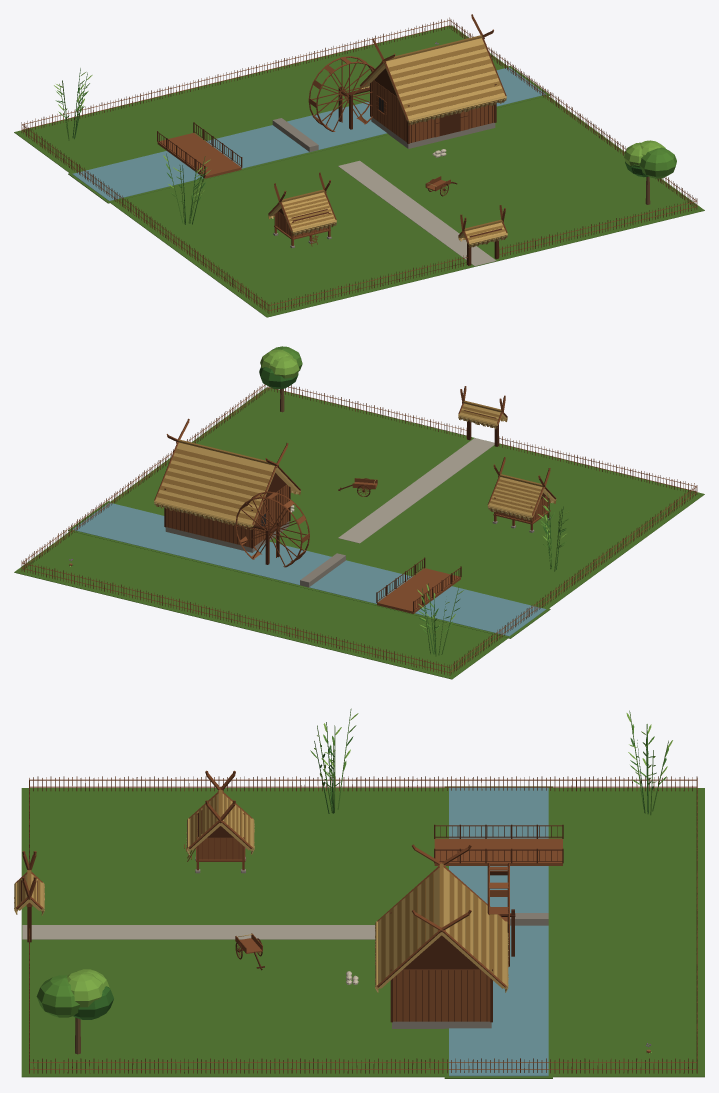
File: power_plant.glb
3 views of the same model, one above another, from view 1: azimuth 30°, elevation 25°; view 2: azimuth 150°, elevation 25°; view 3: azimuth 270°, elevation 25° (orthographic). The views are drawn at different scales.
Parts seen in each view (by area): view 1: body; view 2: body; view 3: body.
Part boxes in pixels (left/top/right/bottom): body: left=14, top=14, right=704, bottom=317; body: left=14, top=346, right=704, bottom=679; body: left=14, top=708, right=704, bottom=1078.
Size of the model in its own units: 48.4 by 9.99 by 48.44.
